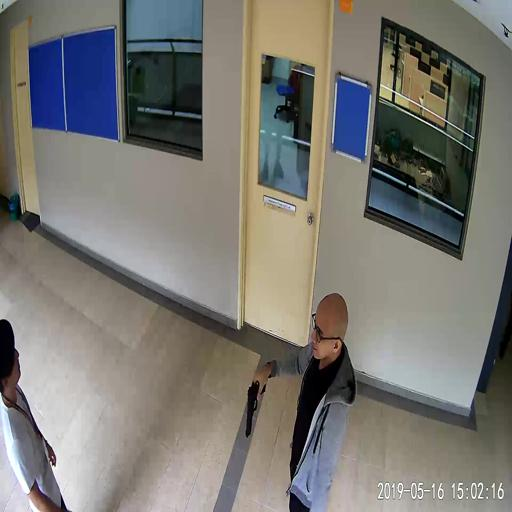pistol: (246, 377, 265, 436)
